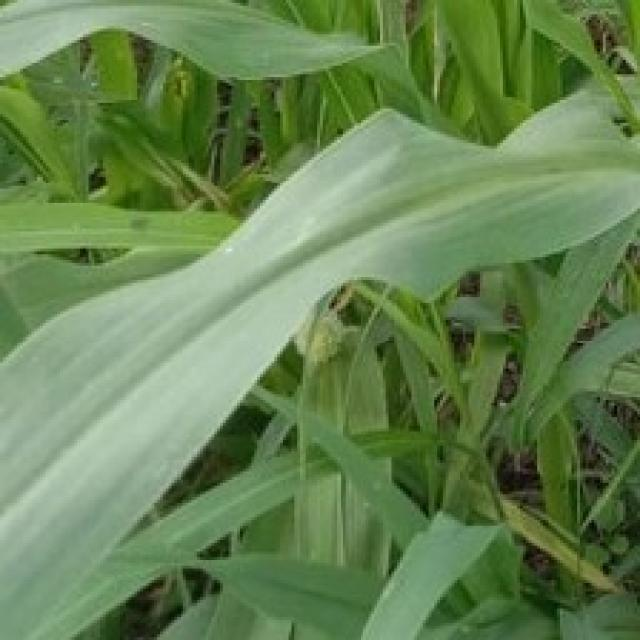Corn: (0, 66, 637, 637), (0, 0, 389, 86)
